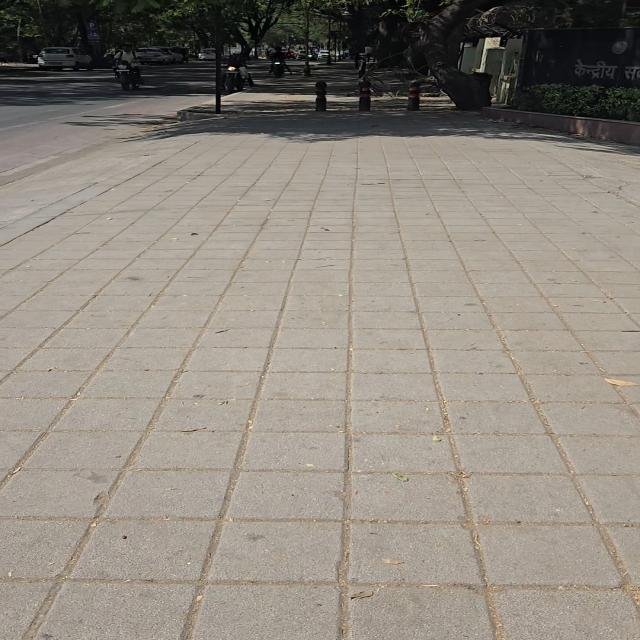obstacle: (0, 0, 625, 107), (348, 0, 638, 73), (406, 0, 570, 110), (0, 0, 244, 59), (414, 0, 491, 110), (416, 0, 491, 110), (107, 0, 243, 49), (307, 0, 404, 53), (0, 0, 79, 57), (466, 0, 573, 35), (232, 0, 296, 54), (153, 0, 218, 47), (0, 0, 43, 61), (568, 0, 630, 27), (263, 7, 305, 46), (377, 14, 406, 67), (215, 5, 222, 113), (303, 5, 311, 76), (16, 17, 27, 62), (408, 80, 421, 110), (359, 81, 371, 110), (316, 81, 327, 111), (327, 18, 331, 64)
person: (114, 44, 141, 83), (229, 54, 253, 86), (270, 46, 292, 74)
vehical: (223, 65, 254, 92), (115, 62, 140, 89), (272, 60, 285, 77)
